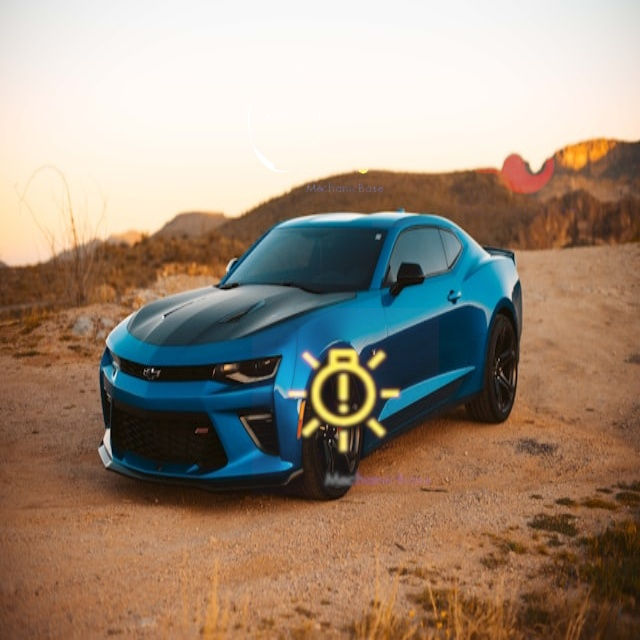symbol: (372, 13, 586, 227), (252, 308, 439, 495), (199, 50, 339, 190), (250, 62, 386, 198)
